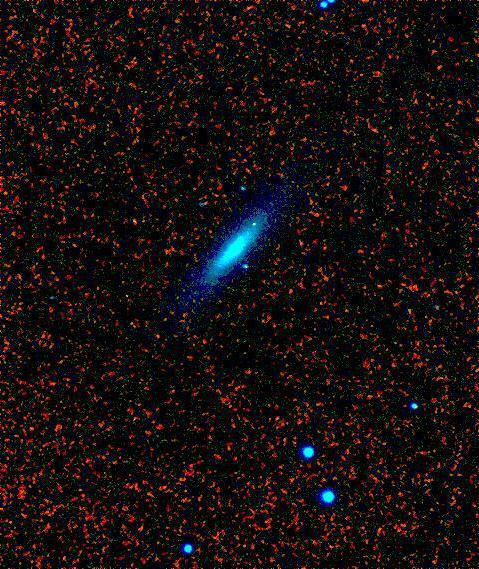star: (239, 208, 269, 238)
